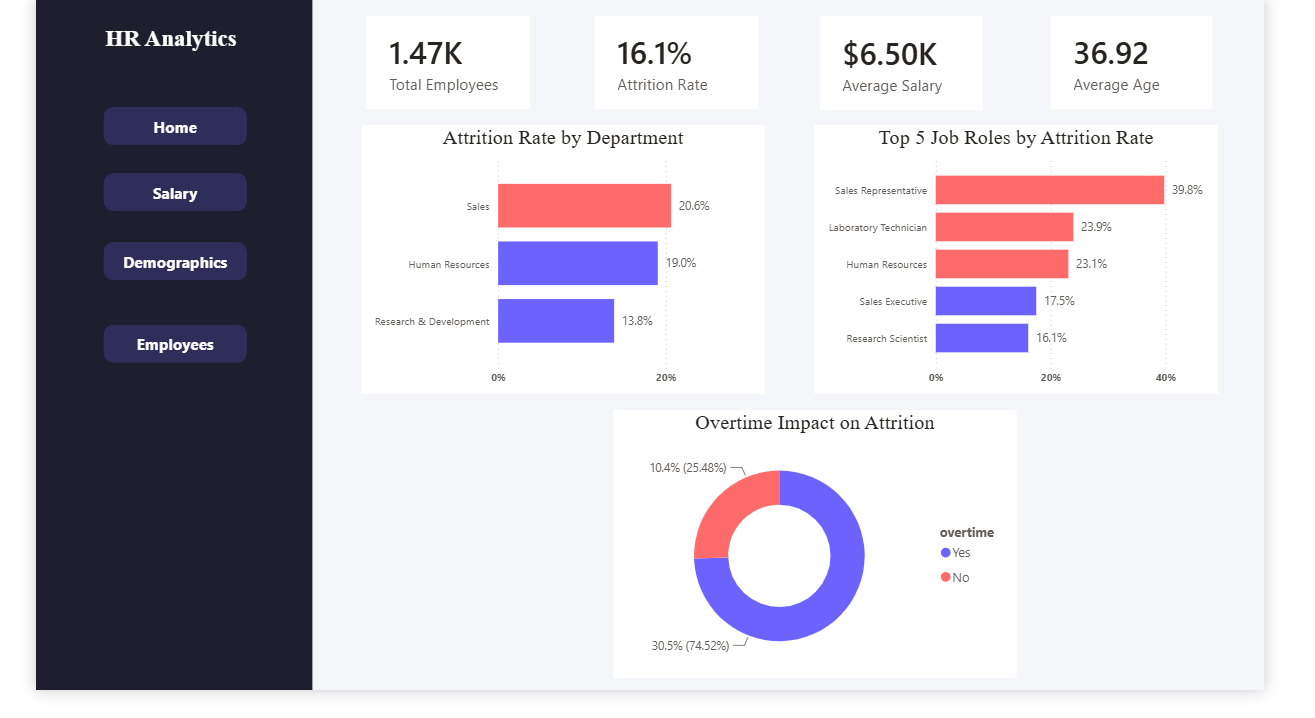

The dashboard page shown, as its layout file describes it:
{"tool":"powerbi","page":{"name":"Attrition Overview","canvas":[1280,720],"ordinal":0},"visuals":[{"type":"shape","box":[0,0,287.9,720.5],"z":0},{"type":"cardVisual","fields":{"Data":["_Measures.Attrition_rate"]},"box":[577.3,12.9,181.9,107.4],"z":1000},{"type":"cardVisual","fields":{"Data":["_Measures.Average_salary"]},"box":[810.7,12.9,180.5,108.9],"z":2000},{"type":"cardVisual","fields":{"Data":["_Measures.AverageAge"]},"box":[1051.4,12.9,179,107.4],"z":3000},{"type":"clusteredBarChart","title":"Attrition Rate by Department","fields":{"Category":["public job_details.department"],"Y":["_Measures.Attrition_rate"]},"box":[338.8,132,419.9,279.9],"z":4000},{"type":"clusteredBarChart","title":"Top 5 Job Roles by Attrition Rate","fields":{"Category":["public job_details.jobrole"],"Y":["_Measures.Attrition_rate"]},"box":[811.2,132,419.9,279.9],"z":5000},{"type":"donutChart","title":"Overtime Impact on Attrition","fields":{"Category":["public job_details.overtime"],"Y":["_Measures.Attrition_rate"]},"box":[600.9,427.5,419.8,279.2],"z":6000},{"type":"cardVisual","fields":{"Data":["_Measures.TotalEmployees"]},"box":[339.5,12.9,180.5,107.4],"z":7000},{"type":"textbox","box":[12.7,22.3,262.5,49.3],"z":8000},{"type":"actionButton","box":[70,112.9,149.5,39.8],"z":9000},{"type":"actionButton","box":[70,181.3,149.5,39.8],"z":10000},{"type":"actionButton","box":[70,252.9,149.5,39.8],"z":11000},{"type":"actionButton","box":[70,338.8,149.5,39.8],"z":12000}]}

Visuals, with their boxes on the page's 1280x720 design canvas (x1, y1, x2, y2). These are canvas units, not pixel positions in the 1315x718 screenshot, which may show the page scaled, cropped or inside an application window:
shape: box(0, 0, 288, 720)
cardVisual - _Measures.Attrition_rate: box(577, 13, 759, 120)
cardVisual - _Measures.Average_salary: box(811, 13, 991, 122)
cardVisual - _Measures.AverageAge: box(1051, 13, 1230, 120)
"Attrition Rate by Department" clusteredBarChart: box(339, 132, 759, 412)
"Top 5 Job Roles by Attrition Rate" clusteredBarChart: box(811, 132, 1231, 412)
"Overtime Impact on Attrition" donutChart: box(601, 428, 1021, 707)
cardVisual - _Measures.TotalEmployees: box(340, 13, 520, 120)
textbox: box(13, 22, 275, 72)
actionButton: box(70, 113, 220, 153)
actionButton: box(70, 181, 220, 221)
actionButton: box(70, 253, 220, 293)
actionButton: box(70, 339, 220, 379)
